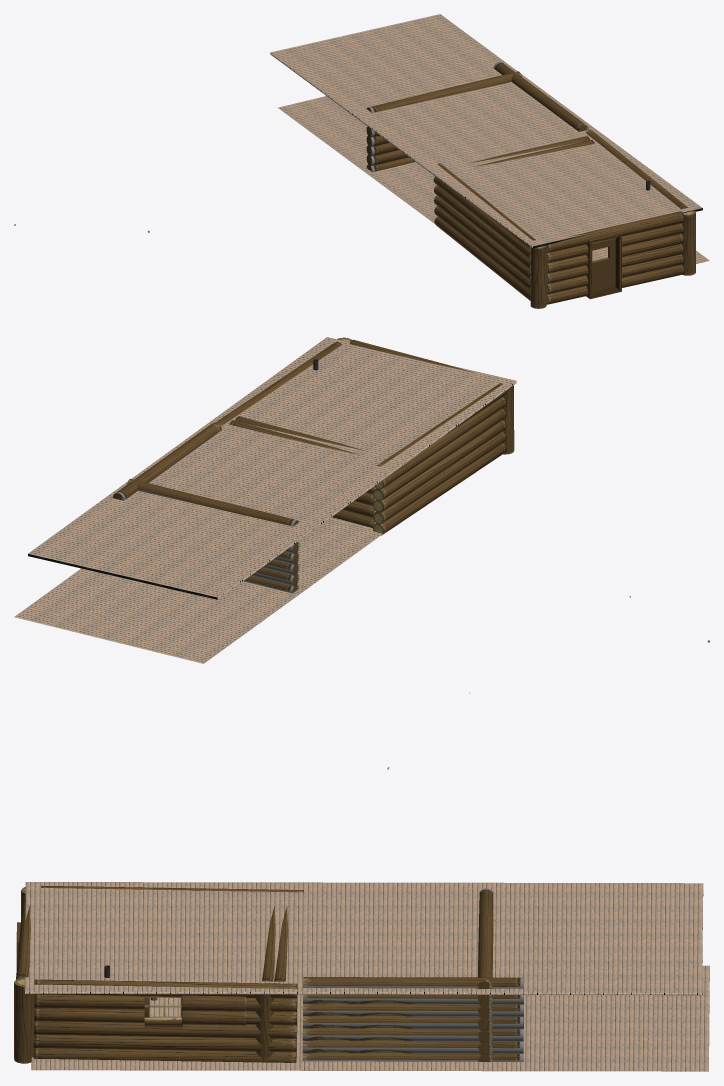
Rendered from kitchen.fbx.
3 views of the same model, one above another, from view 1: azimuth 30°, elevation 25°; view 2: azimuth 150°, elevation 25°; view 3: azimuth 270°, elevation 25° (orthographic). The views are drawn at different scales.
Parts seen in each view (by area): view 1: ceiling, Ceiling, lg_log_0_3, Cylinder_6, lg_log_1_3, lg_log_3_3, lg_log_5_3, lg_log_2_3, lg_log_4_3, Cylinder_6_2, lg_log_5_5, lg_log_3_5 (+9 smaller); view 2: ceiling, Ceiling, lg_log_2_5, lg_log_4_5, lg_log_5_5, lg_log_3_5, Cylinder_6, lg_log_1_5, Cylinder_6_2, lg_log_0_4, lg_log_0_5, lg_log_vertical_5 (+2 smaller); view 3: ceiling, Ceiling, lg_log_4_4, lg_log_3_4, lg_log_5_4, Cylinder_1_2, Cylinder_2_2, Cylinder_4_2, Cylinder_3_2, Cylinder_6_2, Cylinder_5_2, lg_log_1_4 (+12 smaller).
Boxes of the visible parts, left/top/right/bottom form: ceiling: left=270, top=14, right=702, bottom=248; Ceiling: left=278, top=96, right=709, bottom=263; lg_log_0_3: left=547, top=211, right=684, bottom=252; Cylinder_6: left=367, top=71, right=521, bottom=112; lg_log_1_3: left=547, top=223, right=684, bottom=263; lg_log_3_3: left=547, top=243, right=684, bottom=283; lg_log_5_3: left=546, top=264, right=684, bottom=304; lg_log_2_3: left=547, top=233, right=684, bottom=273; lg_log_4_3: left=547, top=254, right=684, bottom=294; Cylinder_6_2: left=493, top=61, right=588, bottom=131; lg_log_5_5: left=434, top=216, right=530, bottom=300; lg_log_3_5: left=434, top=195, right=530, bottom=280; ceiling: left=28, top=337, right=516, bottom=599; Ceiling: left=14, top=517, right=382, bottom=663; lg_log_2_5: left=373, top=408, right=506, bottom=501; lg_log_4_5: left=373, top=431, right=506, bottom=524; lg_log_5_5: left=372, top=443, right=506, bottom=535; lg_log_3_5: left=373, top=419, right=506, bottom=512; Cylinder_6: left=126, top=479, right=299, bottom=526; lg_log_1_5: left=374, top=396, right=506, bottom=489; Cylinder_6_2: left=112, top=422, right=221, bottom=500; lg_log_0_4: left=216, top=342, right=341, bottom=426; lg_log_0_5: left=377, top=383, right=506, bottom=466; lg_log_vertical_5: left=503, top=385, right=514, bottom=454; ceiling: left=24, top=882, right=703, bottom=995; Ceiling: left=31, top=965, right=709, bottom=1071; lg_log_4_4: left=33, top=1034, right=296, bottom=1052; lg_log_3_4: left=34, top=1021, right=297, bottom=1038; lg_log_5_4: left=33, top=1048, right=296, bottom=1062; Cylinder_1_2: left=302, top=1041, right=523, bottom=1053; Cylinder_2_2: left=302, top=1026, right=523, bottom=1041; Cylinder_4_2: left=303, top=1004, right=523, bottom=1016; Cylinder_3_2: left=303, top=1016, right=523, bottom=1029; Cylinder_6_2: left=303, top=977, right=524, bottom=988; Cylinder_5_2: left=303, top=994, right=523, bottom=1004; lg_log_1_4: left=34, top=994, right=297, bottom=1012.
Bounding box in the file's own units: 1451 × 195 × 1296.
